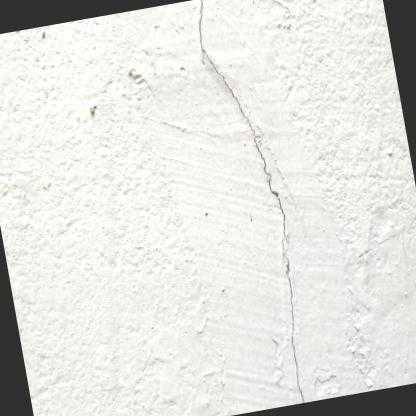crack: (197, 0, 305, 403)
